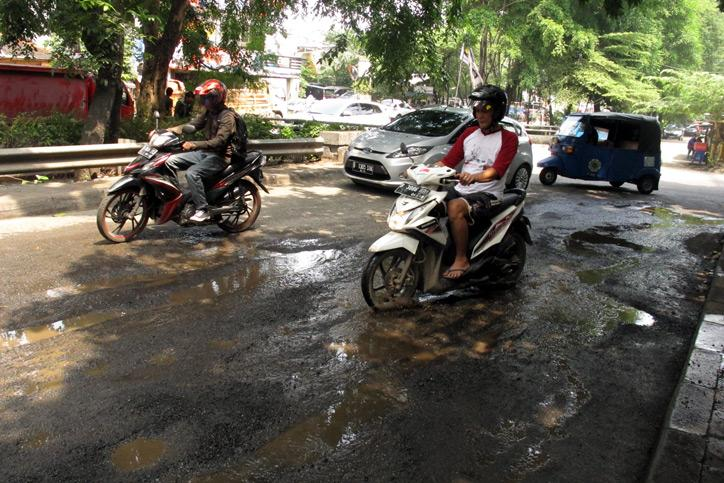Pothole: (6, 219, 389, 376), (489, 266, 652, 459), (240, 378, 420, 460), (578, 170, 702, 252), (86, 415, 187, 481), (195, 445, 259, 472)
